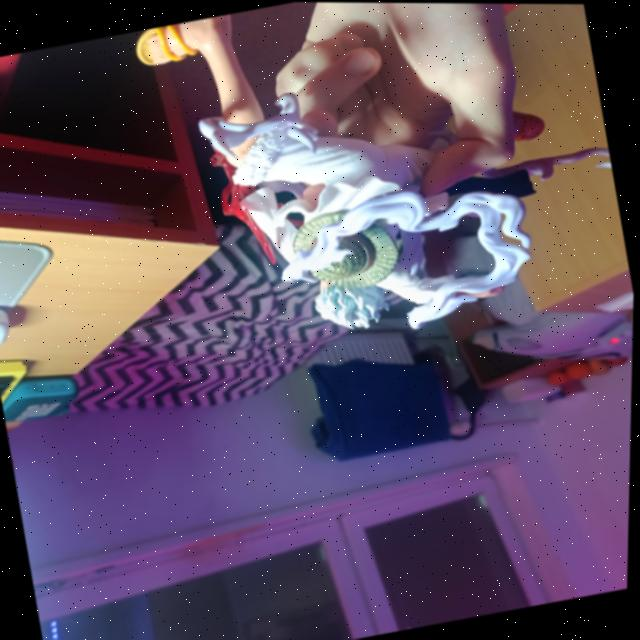luffy: (131, 1, 586, 377)
